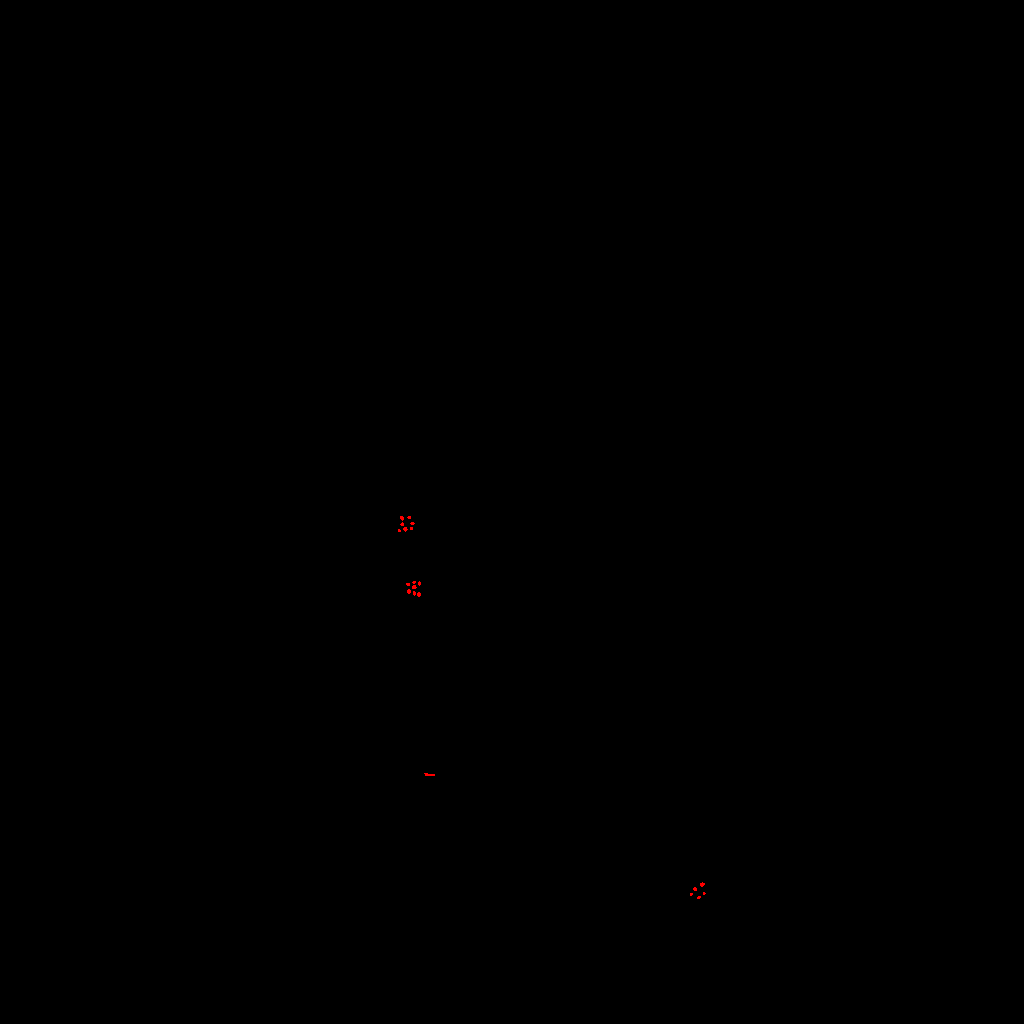Target: (424, 773, 435, 776), (403, 527, 408, 532), (700, 882, 705, 887), (400, 516, 404, 521), (412, 585, 417, 589), (407, 589, 411, 594), (417, 592, 421, 597), (400, 522, 404, 526), (693, 887, 697, 891), (410, 522, 415, 525), (418, 581, 421, 586), (413, 591, 416, 596), (407, 516, 411, 519), (412, 581, 416, 584), (406, 583, 410, 586), (697, 896, 701, 899), (410, 527, 413, 530), (398, 529, 401, 532), (703, 892, 706, 895), (690, 893, 693, 896)
